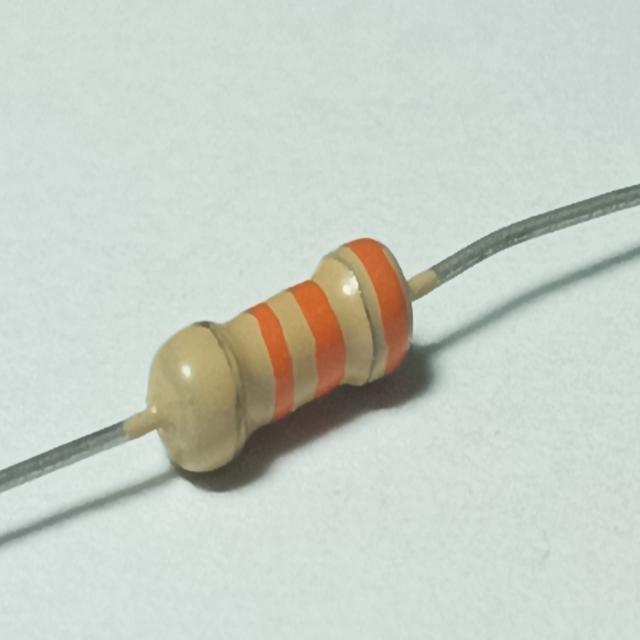33k ohms: (137, 222, 430, 497)
